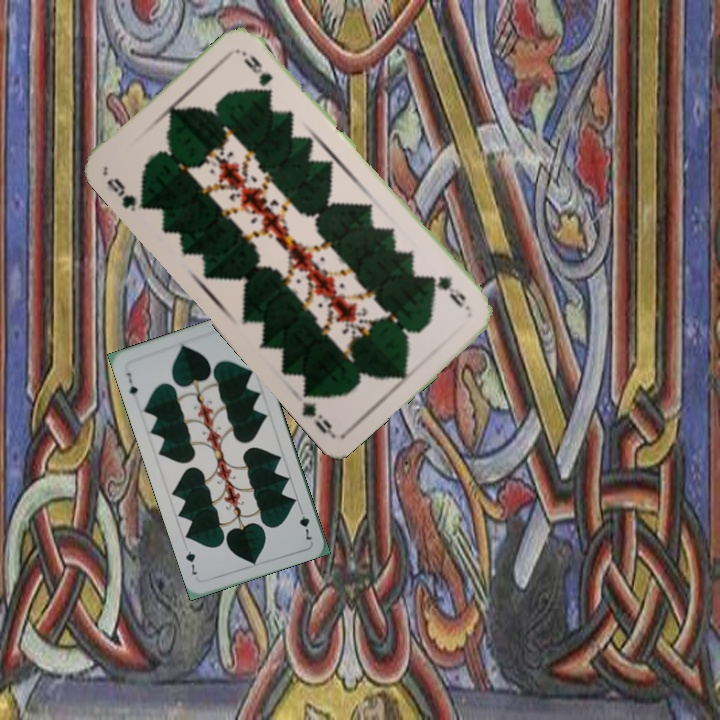G7: (295, 503, 314, 544), (122, 368, 140, 398)
G9: (427, 272, 473, 313), (102, 173, 139, 214)
